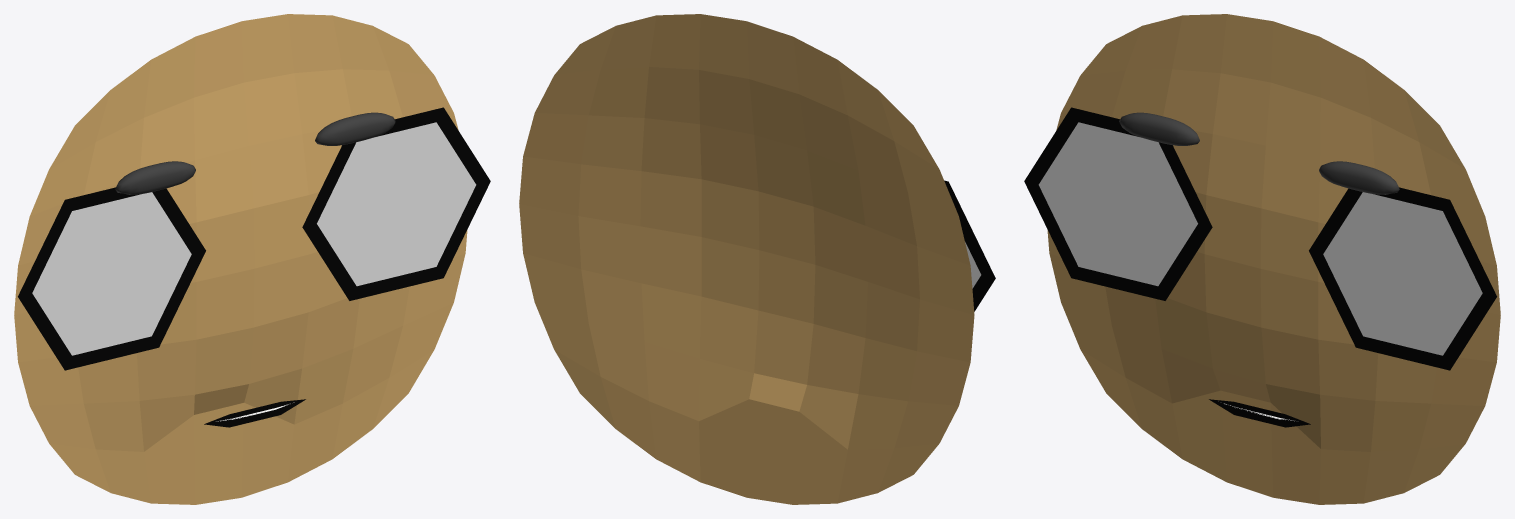
The model's file is RukiaFFF.glb.
The picture shows the model from 3 angles, left to right: view 1: azimuth 30°, elevation 25°; view 2: azimuth 150°, elevation 25°; view 3: azimuth 330°, elevation 25°; orthographic projection.
Parts seen in each view (by area): view 1: Circle; view 2: Circle; view 3: Circle.
Part boxes in pixels (box(x1,y1,x2,y2)): Circle: box(14, 14, 490, 504); Circle: box(519, 14, 995, 504); Circle: box(1024, 14, 1500, 504).
Bounding box in the file's own units: 1.9 × 1.83 × 0.1317.
